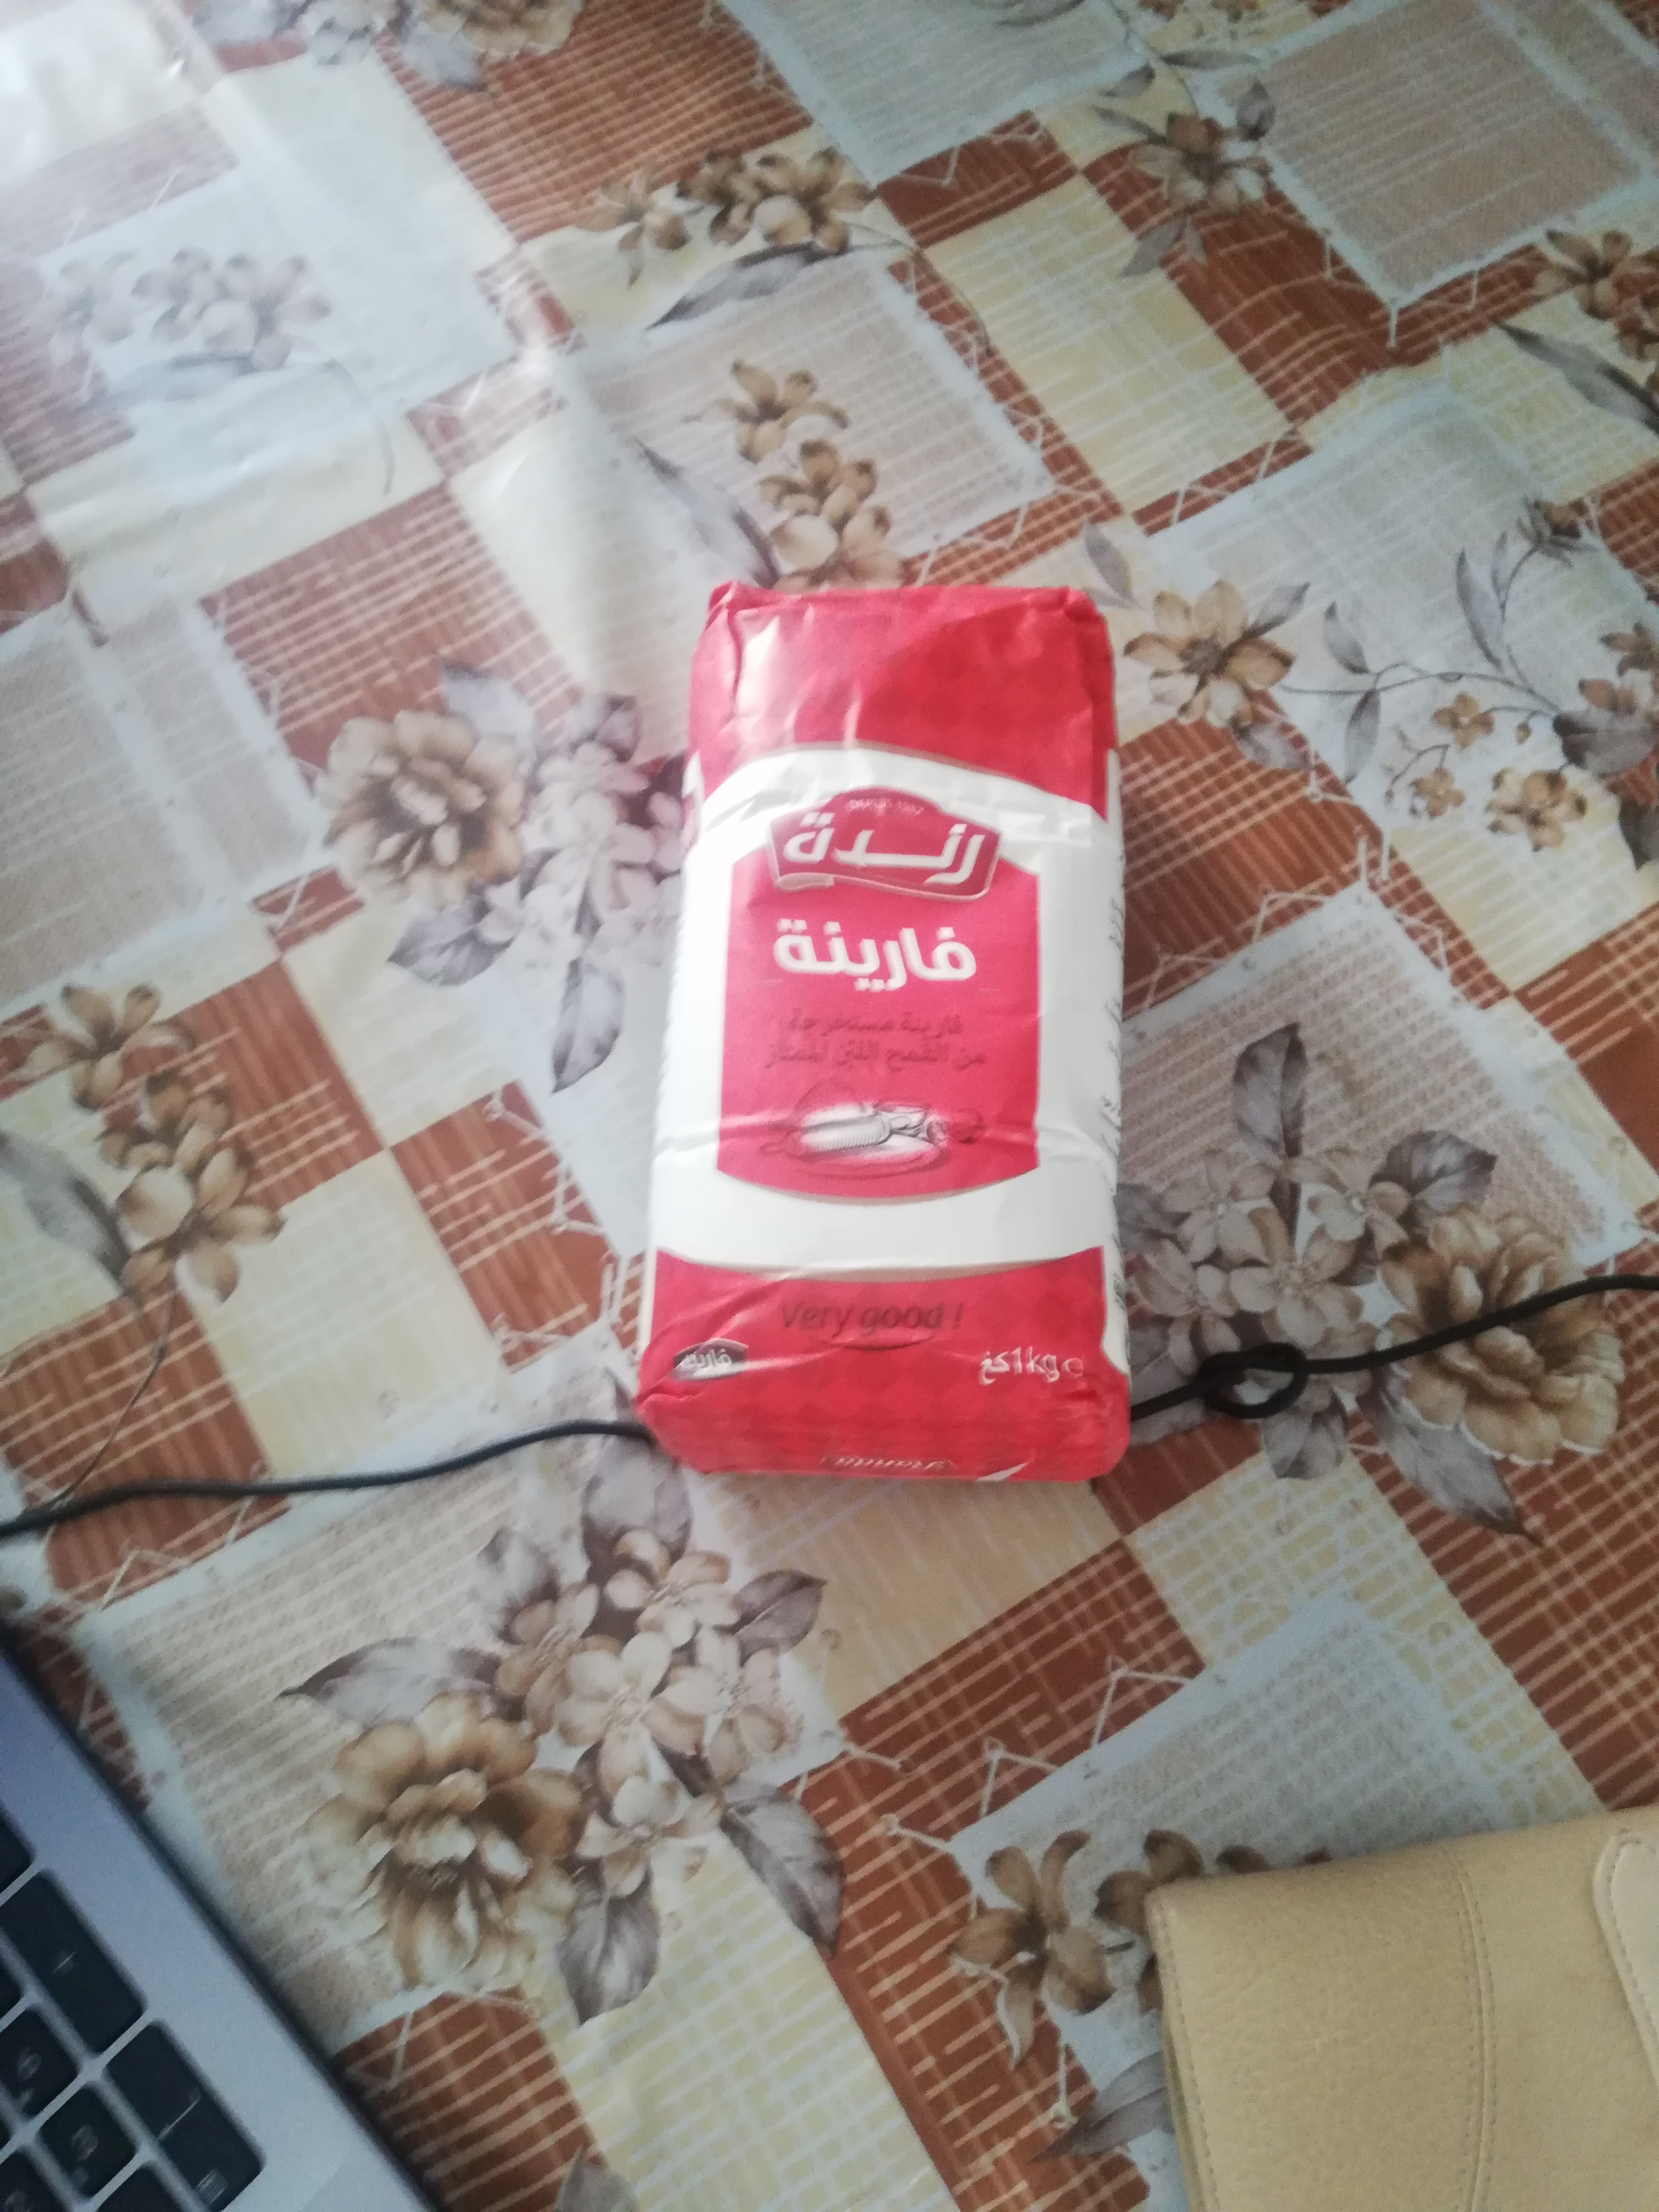Farine Randa: (631, 580, 1141, 1482)
